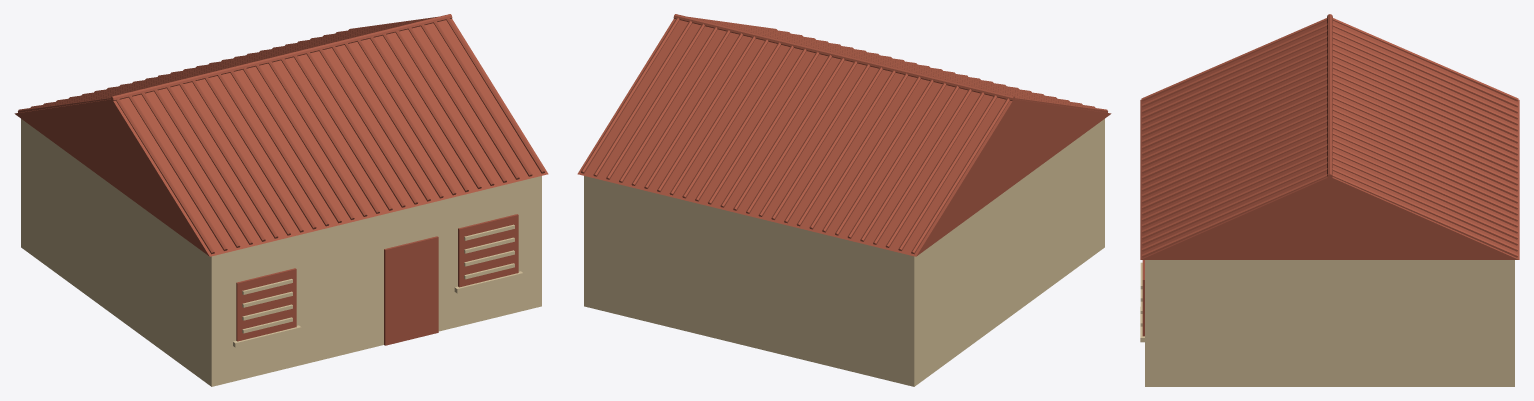
The model's file is house_c.glb.
3 renders of one model, left to right at view 1: azimuth 30°, elevation 25°; view 2: azimuth 150°, elevation 25°; view 3: azimuth 270°, elevation 25°, orthographic. The views are drawn at different scales.
Visible parts, largest first — view 1: house_c; view 2: house_c; view 3: house_c.
Boxes of the visible parts, x1,y1,x2,y2 form: house_c: (14,14,548,386); house_c: (577,14,1111,386); house_c: (1140,14,1519,386).
Size of the model in its own units: 8 by 5 by 8.
